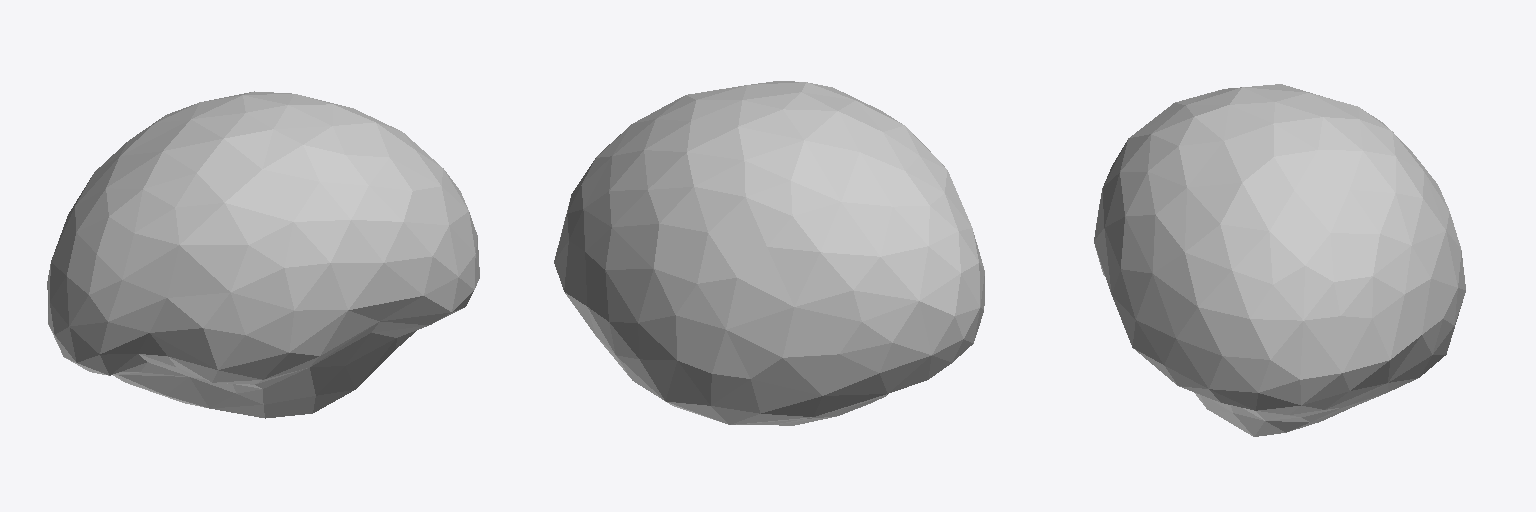
File: BrainCoral.obj
3 views of the same model, side by side, from view 1: azimuth 30°, elevation 25°; view 2: azimuth 150°, elevation 25°; view 3: azimuth 270°, elevation 25° (orthographic).
Parts seen in each view (by area): view 1: BrainCoral; view 2: BrainCoral; view 3: BrainCoral.
Part boxes in pixels (bbox=[...]): BrainCoral: bbox=[47, 91, 479, 418]; BrainCoral: bbox=[554, 81, 984, 425]; BrainCoral: bbox=[1094, 84, 1465, 436].
Size of the model in its own units: 1.66 by 1.17 by 1.34.